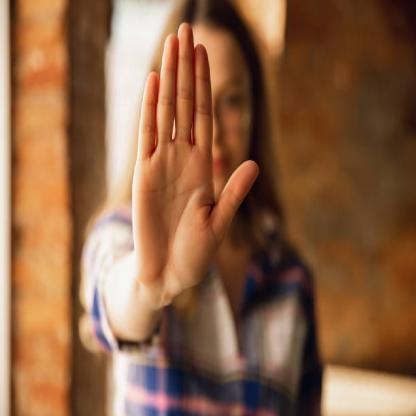stop: (129, 17, 259, 300)
